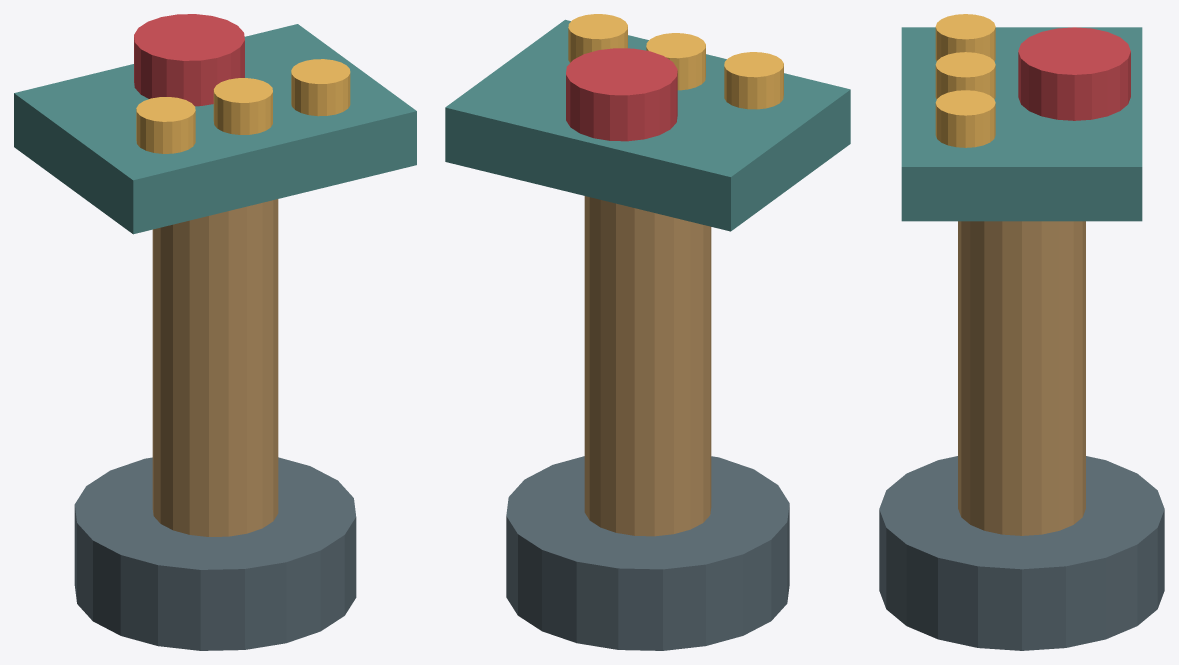
File: SignoffPlinth.glb
3 renders of one model, left to right at view 1: azimuth 30°, elevation 25°; view 2: azimuth 150°, elevation 25°; view 3: azimuth 270°, elevation 25°, orthographic.
Parts seen in each view (by area): view 1: SignoffPlinth; view 2: SignoffPlinth; view 3: SignoffPlinth.
Part boxes in pixels (left/top/right/bottom): SignoffPlinth: left=14, top=14, right=416, bottom=650; SignoffPlinth: left=445, top=14, right=850, bottom=650; SignoffPlinth: left=879, top=14, right=1164, bottom=650.
Bounding box in the file's own units: 0.88 × 1.59 × 0.76.
